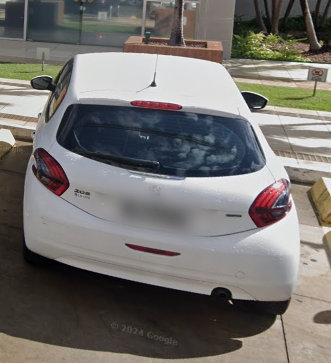car: (20, 49, 301, 321)
